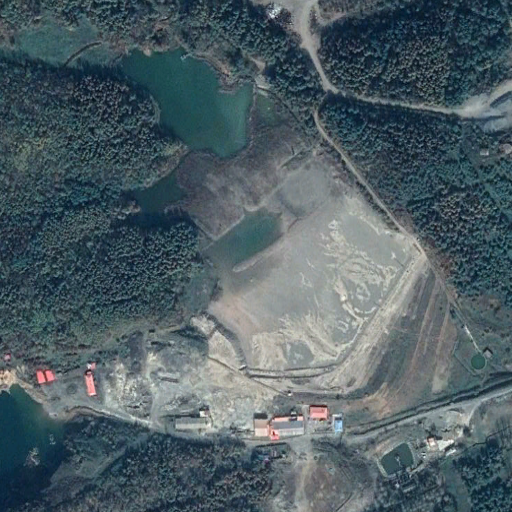tp: (114, 40, 462, 421)
